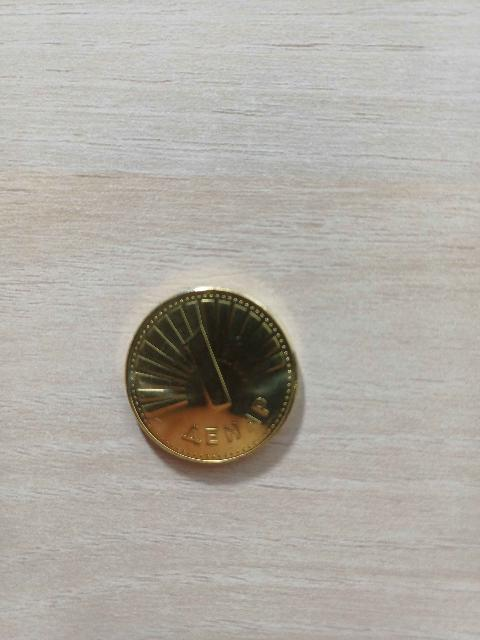1_coin: (126, 287, 297, 463)
